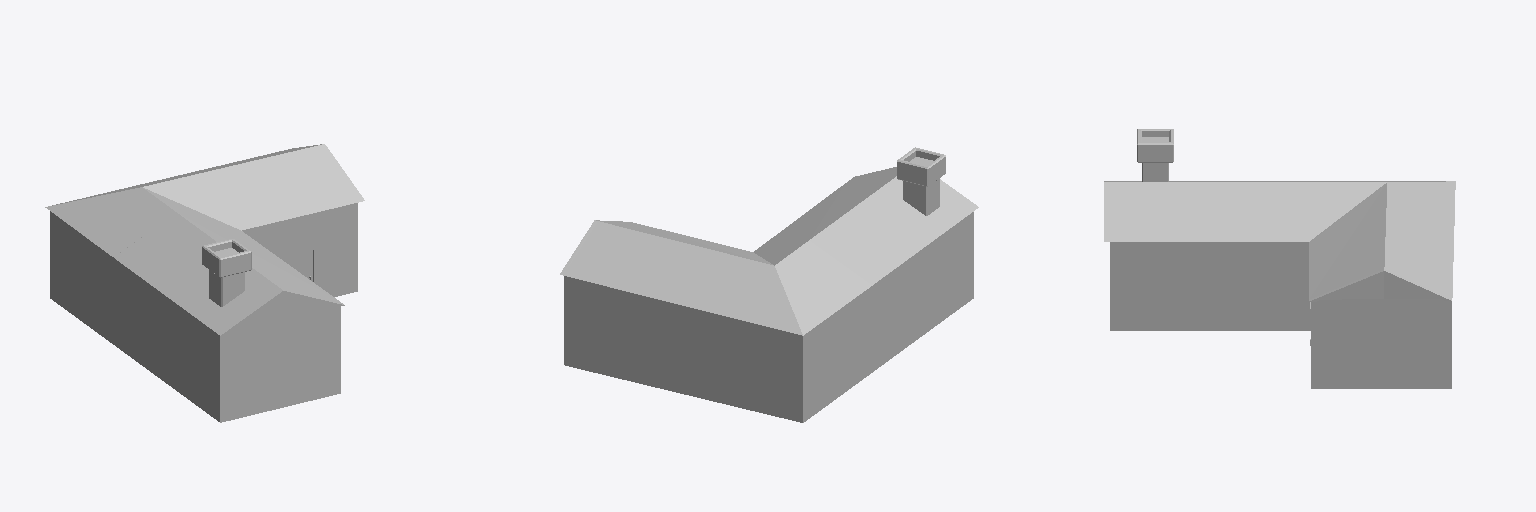
Rendered from Workshop Storefront.obj.
The picture shows the model from 3 angles: view 1: azimuth 30°, elevation 25°; view 2: azimuth 150°, elevation 25°; view 3: azimuth 270°, elevation 25°; orthographic projection.
Parts seen in each view (by area): view 1: Building, Roof, Chimney; view 2: Building, Roof, Chimney; view 3: Building, Roof, Chimney.
Part boxes in pixels (bbox=[...]): Building: bbox=[50, 203, 357, 422]; Roof: bbox=[45, 144, 364, 335]; Chimney: bbox=[202, 239, 251, 306]; Building: bbox=[564, 212, 973, 422]; Roof: bbox=[560, 167, 978, 335]; Chimney: bbox=[897, 147, 945, 215]; Building: bbox=[1110, 242, 1451, 388]; Roof: bbox=[1104, 181, 1455, 301]; Chimney: bbox=[1137, 129, 1173, 181].
Bounding box in the file's own units: 21.36 × 12.44 × 26.3.